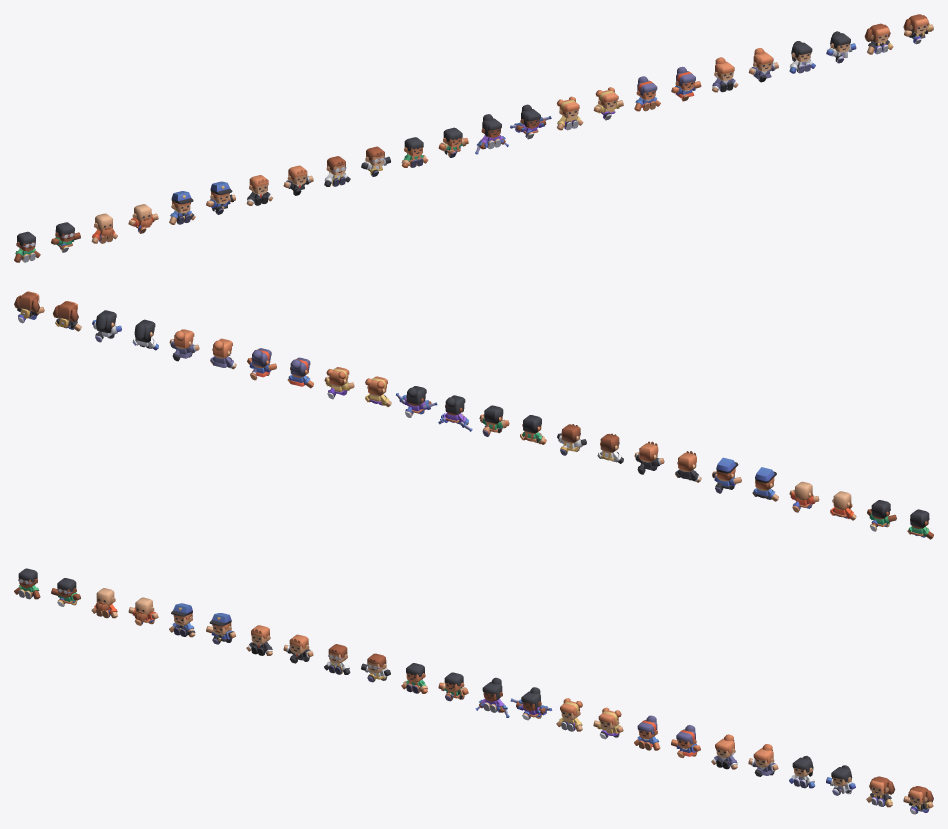
File: crowd.glb
The picture shows the model from 3 angles, top to bottom: view 1: azimuth 30°, elevation 25°; view 2: azimuth 150°, elevation 25°; view 3: azimuth 330°, elevation 25°; orthographic projection.
Visible parts, largest first — view 1: CROWD_6_sit, CROWD_6_cheer, CROWD_11_sit, CROWD_2_sit, CROWD_7_sit, CROWD_9_sit, CROWD_8_sit, CROWD_2_cheer, CROWD_9_cheer, CROWD_10_sit, CROWD_8_cheer, CROWD_11_cheer (+12 smaller); view 2: CROWD_6_cheer, CROWD_2_cheer, CROWD_11_cheer, CROWD_7_cheer, CROWD_6_sit, CROWD_9_cheer, CROWD_2_sit, CROWD_3_cheer, CROWD_11_sit, CROWD_8_cheer, CROWD_10_cheer, CROWD_5_cheer (+12 smaller); view 3: CROWD_6_sit, CROWD_6_cheer, CROWD_2_sit, CROWD_11_sit, CROWD_2_cheer, CROWD_7_sit, CROWD_9_sit, CROWD_8_sit, CROWD_9_cheer, CROWD_8_cheer, CROWD_7_cheer, CROWD_10_sit (+12 smaller).
Part boxes in pixels (x1=…): CROWD_6_sit: x1=475, y1=114, x2=508, y2=154; CROWD_6_cheer: x1=510, y1=104, x2=551, y2=139; CROWD_11_sit: x1=864, y1=23, x2=893, y2=54; CROWD_2_sit: x1=169, y1=191, x2=195, y2=224; CROWD_7_sit: x1=557, y1=96, x2=583, y2=130; CROWD_9_sit: x1=712, y1=57, x2=738, y2=92; CROWD_8_sit: x1=634, y1=76, x2=660, y2=111; CROWD_2_cheer: x1=206, y1=181, x2=235, y2=214; CROWD_9_cheer: x1=748, y1=48, x2=778, y2=82; CROWD_10_sit: x1=789, y1=41, x2=815, y2=73; CROWD_8_cheer: x1=671, y1=66, x2=701, y2=101; CROWD_11_cheer: x1=903, y1=14, x2=933, y2=44; CROWD_6_cheer: x1=396, y1=386, x2=437, y2=417; CROWD_2_cheer: x1=712, y1=457, x2=741, y2=493; CROWD_11_cheer: x1=14, y1=291, x2=44, y2=323; CROWD_7_cheer: x1=324, y1=367, x2=354, y2=399; CROWD_6_sit: x1=438, y1=395, x2=472, y2=431; CROWD_9_cheer: x1=169, y1=329, x2=199, y2=361; CROWD_2_sit: x1=752, y1=467, x2=778, y2=501; CROWD_3_cheer: x1=634, y1=441, x2=664, y2=474; CROWD_11_sit: x1=53, y1=301, x2=81, y2=331; CROWD_8_cheer: x1=247, y1=348, x2=276, y2=380; CROWD_10_cheer: x1=92, y1=310, x2=121, y2=342; CROWD_5_cheer: x1=479, y1=405, x2=509, y2=436; CROWD_6_sit: x1=475, y1=677, x2=509, y2=717; CROWD_6_cheer: x1=510, y1=687, x2=552, y2=720; CROWD_2_sit: x1=169, y1=603, x2=195, y2=637; CROWD_11_sit: x1=866, y1=776, x2=895, y2=807; CROWD_2_cheer: x1=206, y1=613, x2=235, y2=644; CROWD_7_sit: x1=556, y1=698, x2=582, y2=731; CROWD_9_sit: x1=711, y1=734, x2=737, y2=769; CROWD_8_sit: x1=634, y1=715, x2=660, y2=750; CROWD_9_cheer: x1=748, y1=744, x2=778, y2=776; CROWD_8_cheer: x1=671, y1=725, x2=700, y2=757; CROWD_7_cheer: x1=593, y1=707, x2=623, y2=739; CROWD_10_sit: x1=789, y1=756, x2=815, y2=788.
Bounding box in the file's own units: 23.71 × 0.845 × 0.5957.
12 materials, 12 textured.
